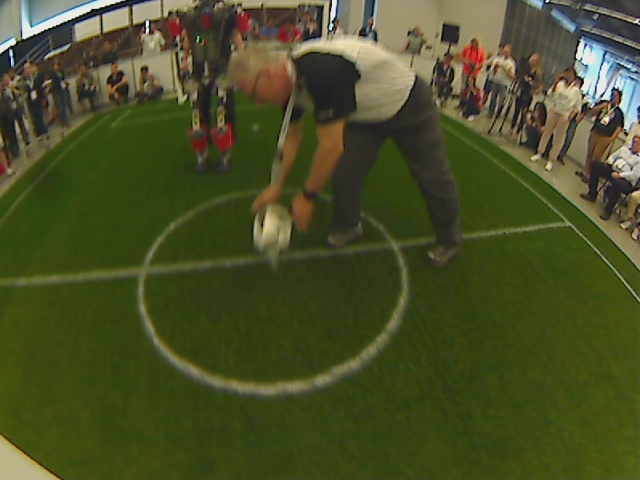ball: (246, 202, 301, 254)
